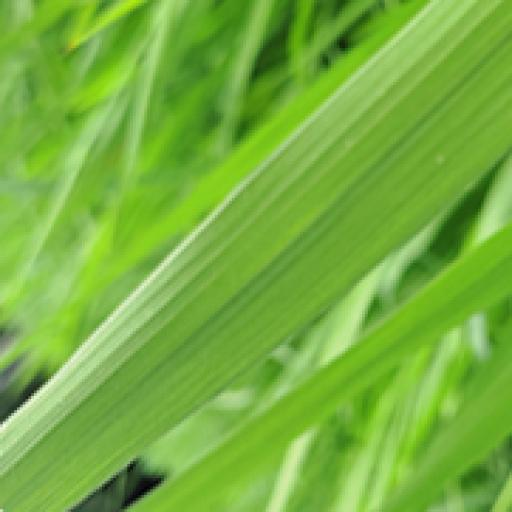Healthy Leaf: (6, 8, 506, 506)
